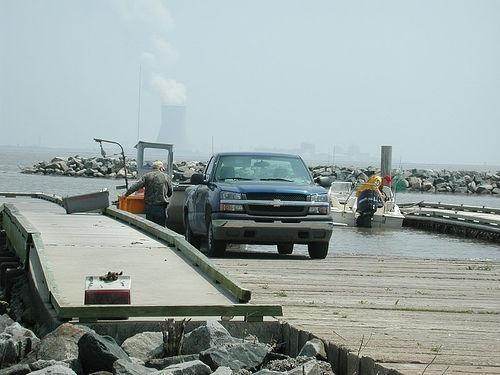truck: (184, 158, 332, 258)
